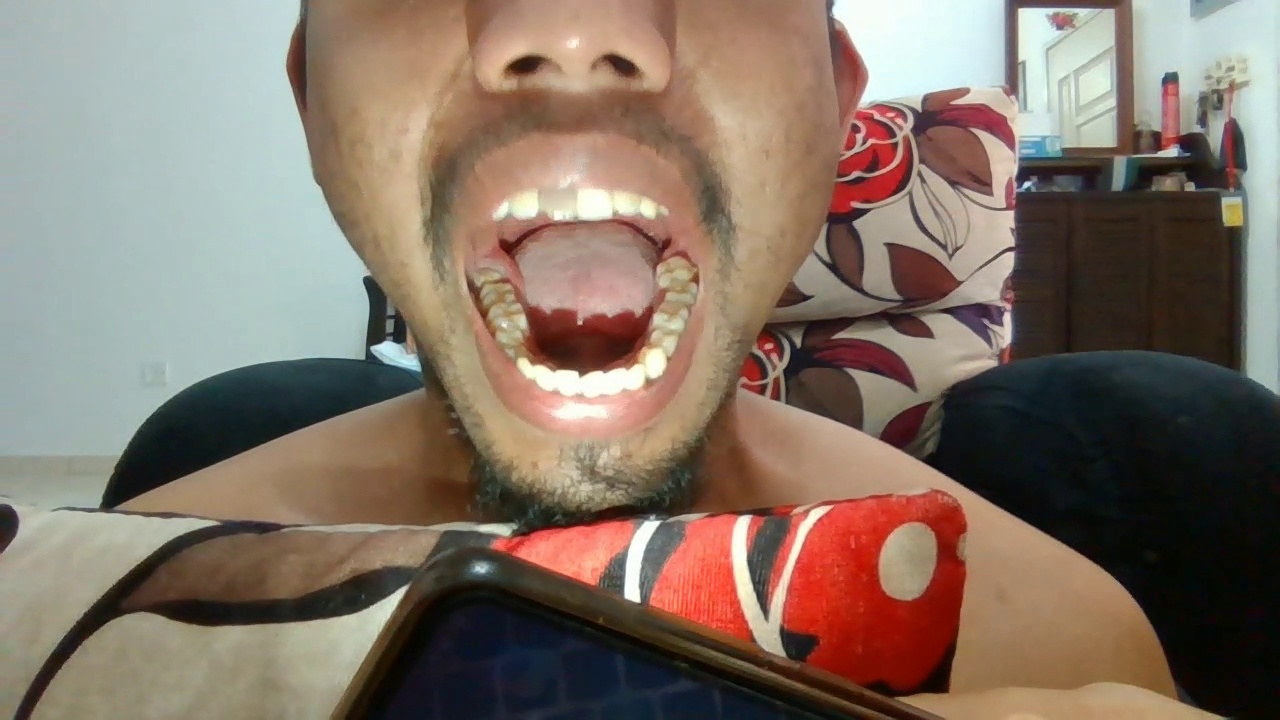1st Molar: (487, 303, 529, 332), (650, 305, 689, 329)
1st Premolar: (637, 345, 668, 379)
2nd Molar: (478, 282, 516, 304), (665, 283, 698, 304)
2nd Premolar: (648, 328, 678, 355), (494, 327, 526, 347)
3rd Molar: (657, 255, 696, 282), (470, 266, 504, 282)
Canine: (627, 362, 646, 390), (517, 354, 535, 379), (641, 195, 659, 219), (492, 201, 510, 221)
Central Incisor: (539, 187, 577, 220), (577, 187, 613, 221), (580, 369, 606, 398), (554, 367, 579, 397)
Lateral Incisor: (509, 190, 539, 220), (613, 189, 641, 216), (534, 363, 554, 393), (607, 366, 627, 394)
